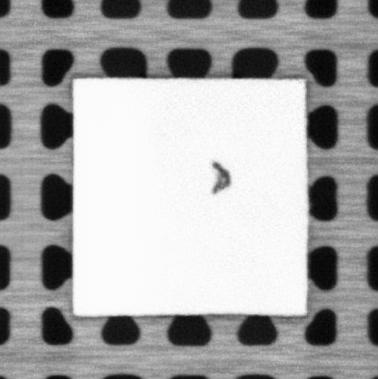DIE_INK: (208, 160, 232, 196)
